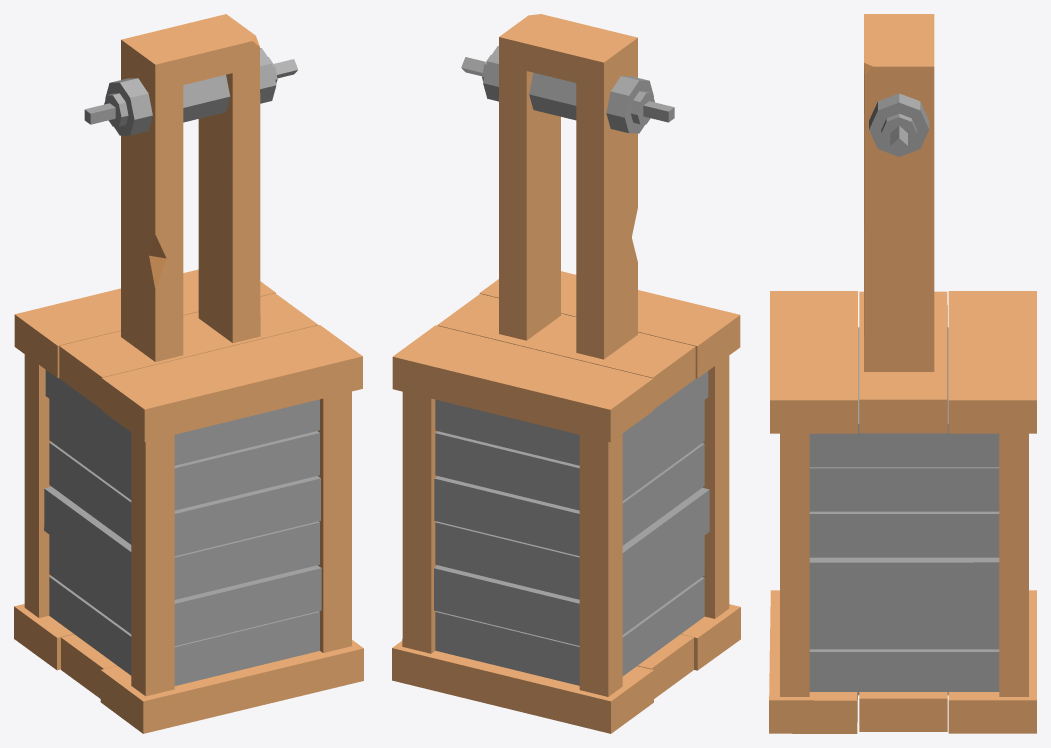
The model's file is trenuchet.weight.fbx.
3 views of the same model, side by side, from view 1: azimuth 30°, elevation 25°; view 2: azimuth 150°, elevation 25°; view 3: azimuth 270°, elevation 25° (orthographic). The views are drawn at different scales.
Parts seen in each view (by area): view 1: trenuchet.weight; view 2: trenuchet.weight; view 3: trenuchet.weight.
Boxes of the visible parts, box(x1,y1,x2,y2) form: trenuchet.weight: box(14, 14, 363, 733); trenuchet.weight: box(392, 14, 740, 733); trenuchet.weight: box(769, 14, 1036, 733).
Bounding box in the file's own units: 0.9686 × 2.61 × 0.9932.
